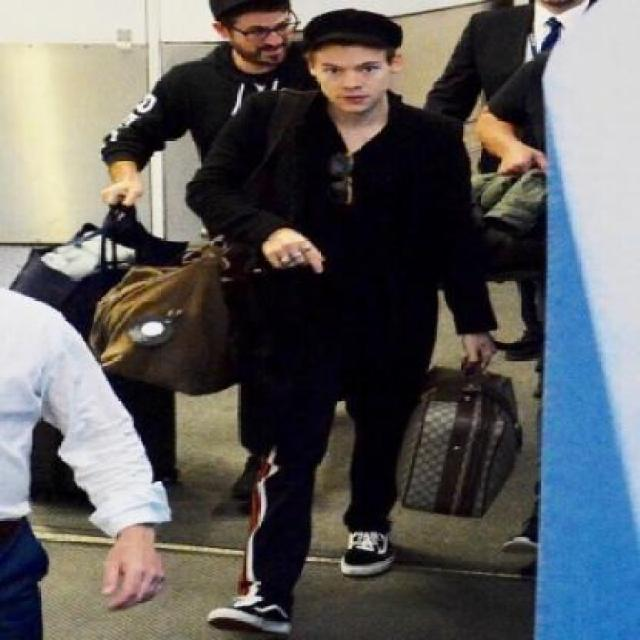hat: (300, 6, 402, 56)
